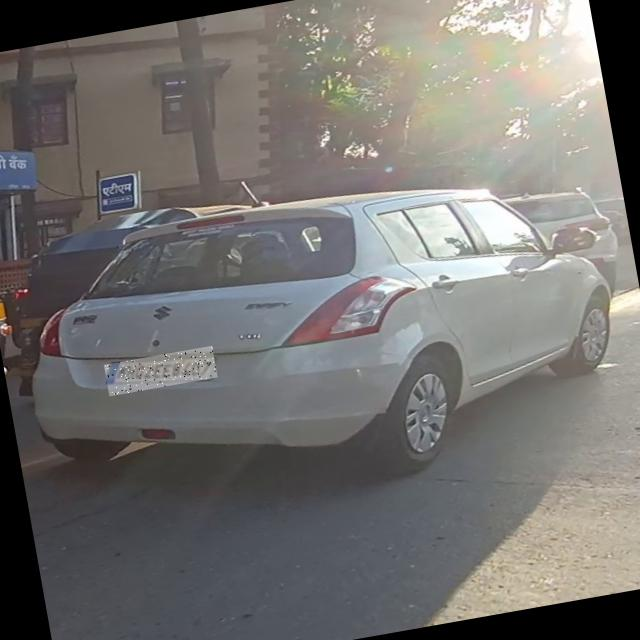Plate: (105, 346, 219, 397)
